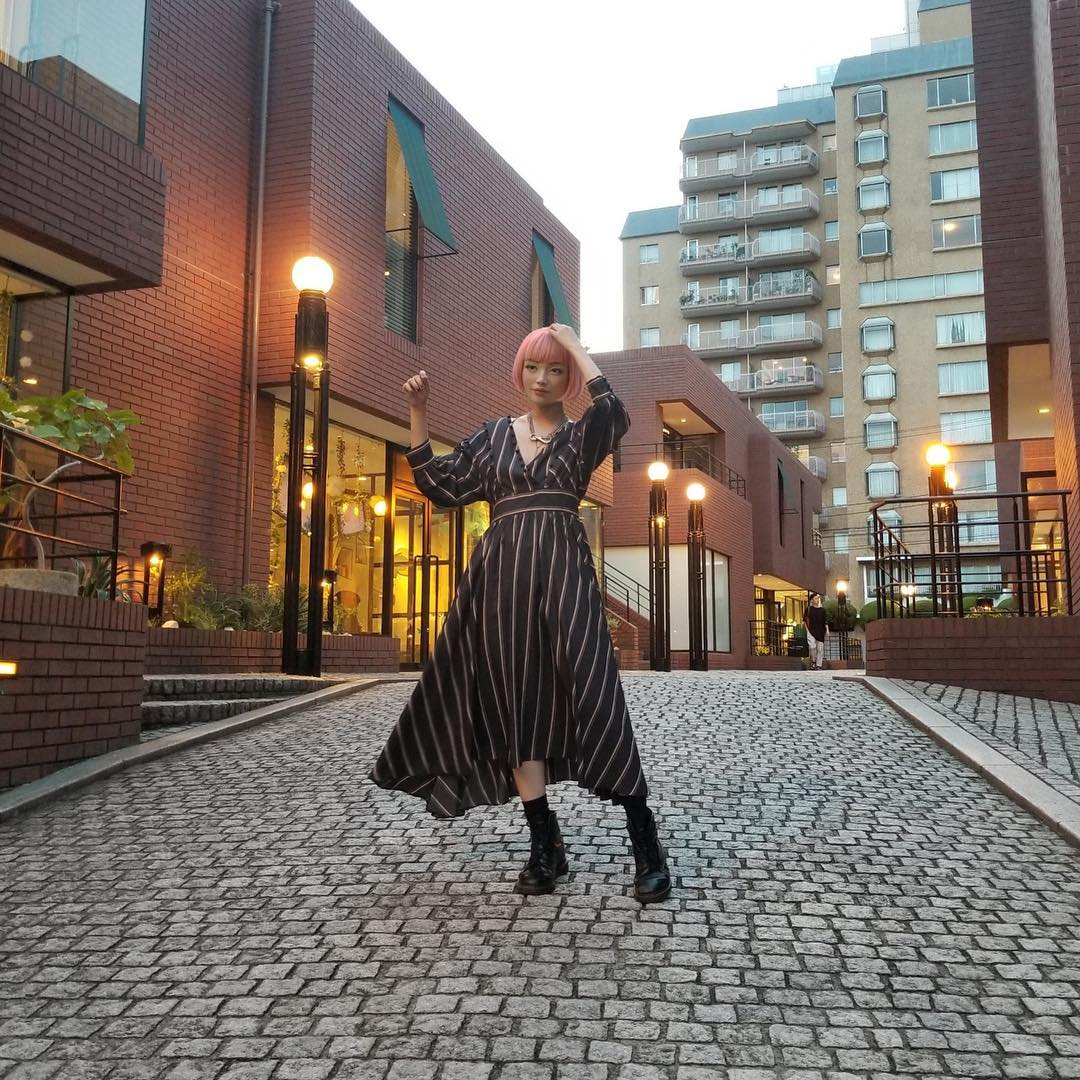people: (420, 328, 675, 901), (801, 592, 829, 666)
